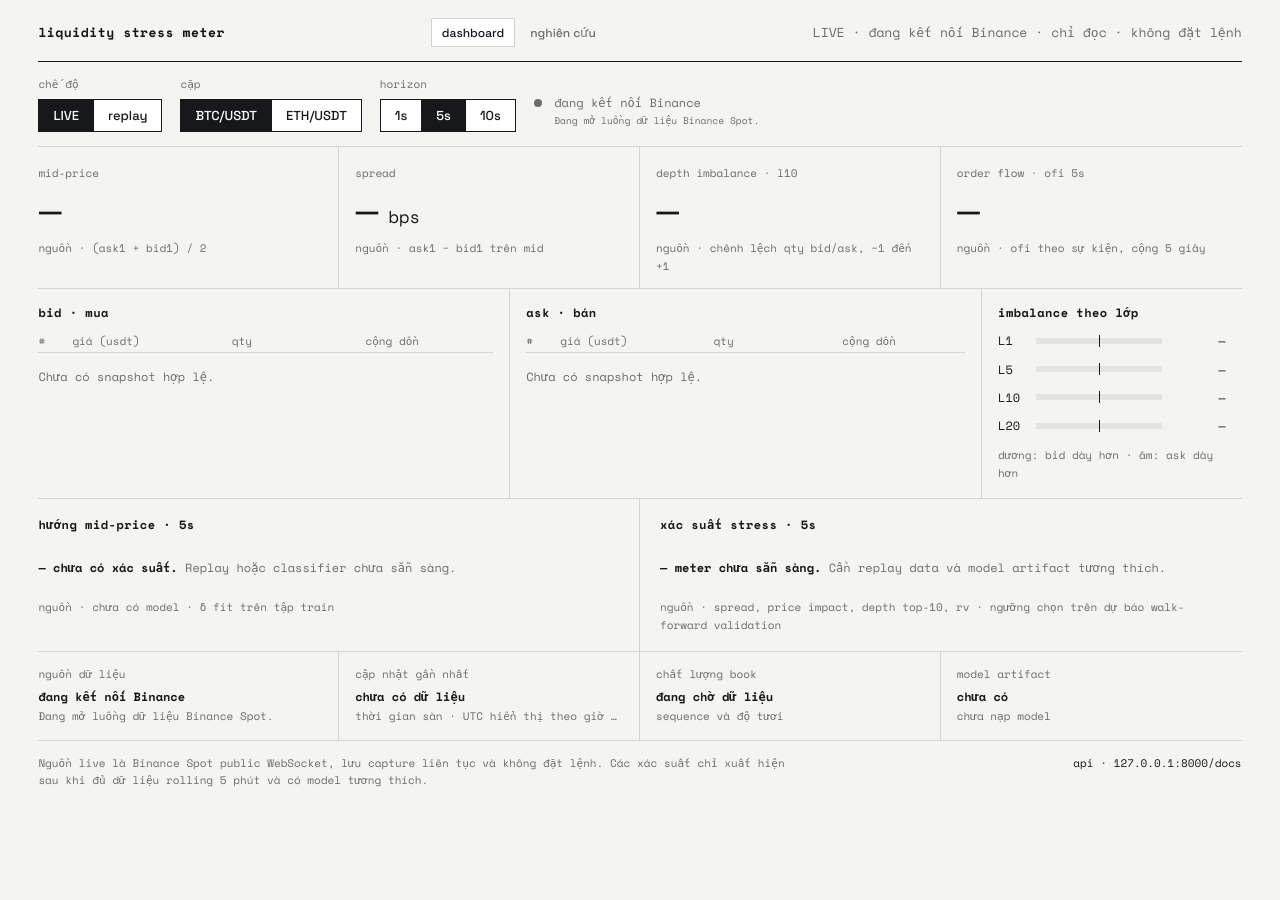
Test: LOBApp stress decision threshold › compares stress probability with the threshold stored in the artifact
What coordinates should you click on to do the following:
click the button "replay"
I would click on:
 (128, 115)
Its box is [94,100,162,131].
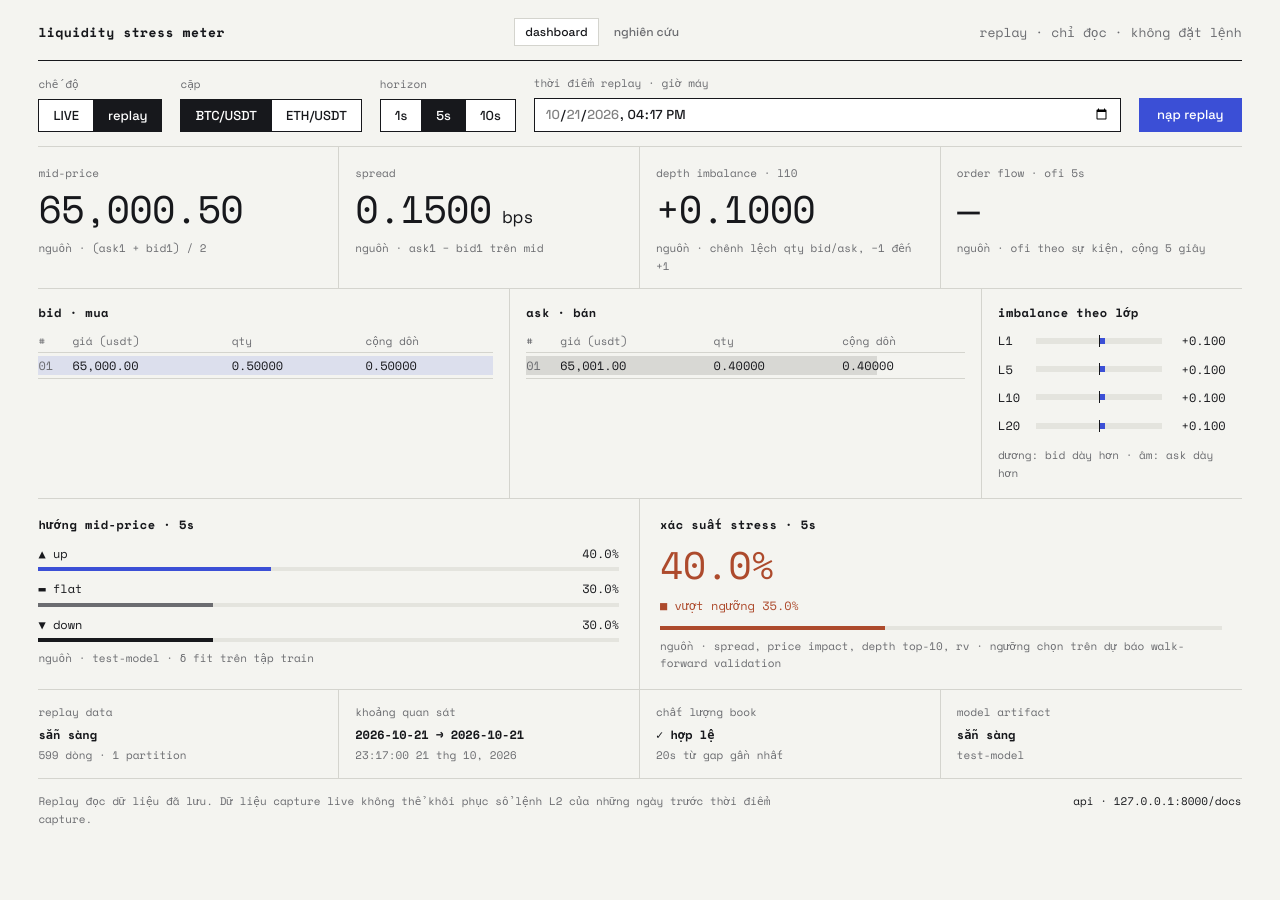
Result: the text "■ vượt ngưỡng 35.0%" is shown at [660,597,799,614]
